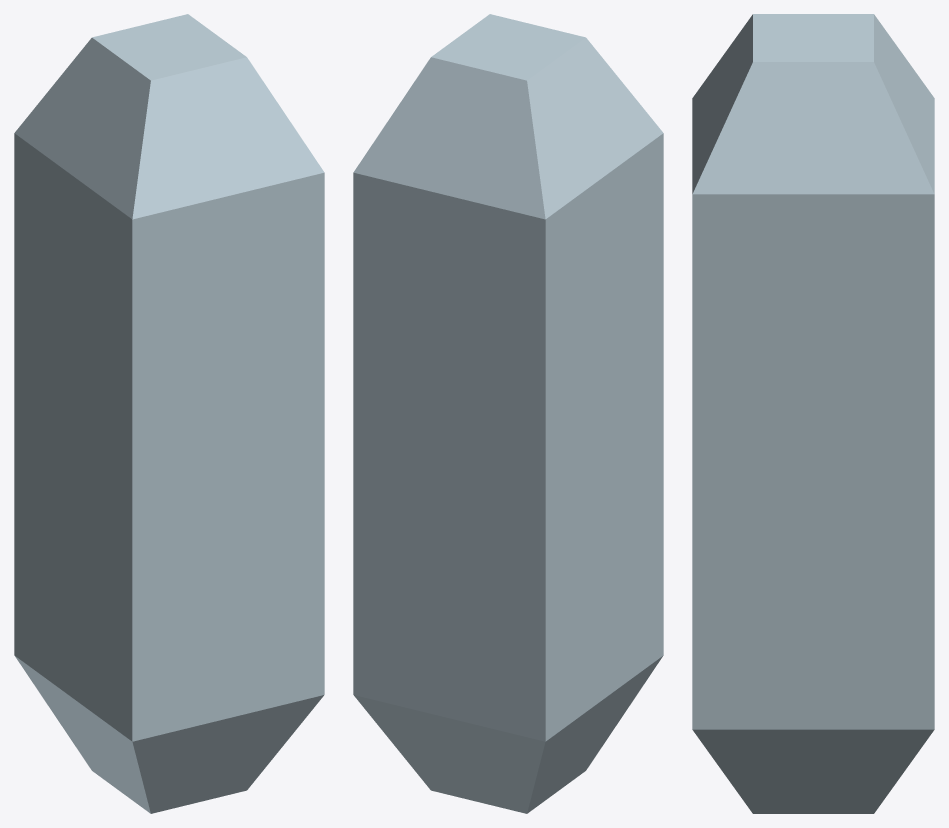
Rendered from StrongMutantUpperLeg.fbx.
3 views of the same model, side by side, from view 1: azimuth 30°, elevation 25°; view 2: azimuth 150°, elevation 25°; view 3: azimuth 270°, elevation 25° (orthographic). The views are drawn at different scales.
Visible parts, largest first — view 1: StrongMutantUpperLeg; view 2: StrongMutantUpperLeg; view 3: StrongMutantUpperLeg.
Part boxes in pixels (bbox=[...]): StrongMutantUpperLeg: bbox=[14, 14, 324, 813]; StrongMutantUpperLeg: bbox=[353, 14, 663, 813]; StrongMutantUpperLeg: bbox=[692, 14, 934, 813].
Bounding box in the file's own units: 0.1568 × 0.5717 × 0.1668.
